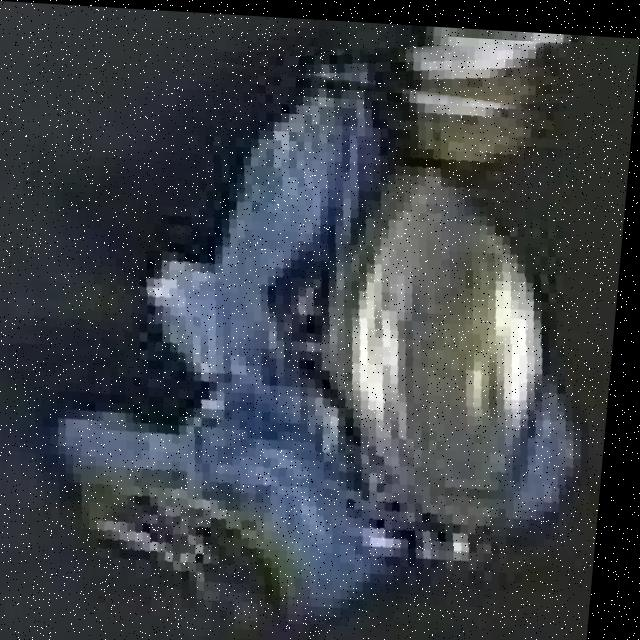litter: (13, 63, 612, 640)
